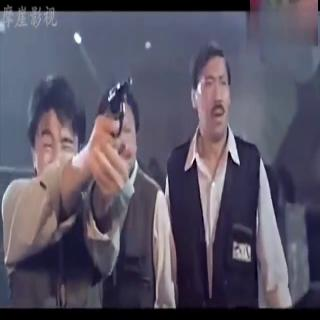gun: (92, 63, 139, 170)
